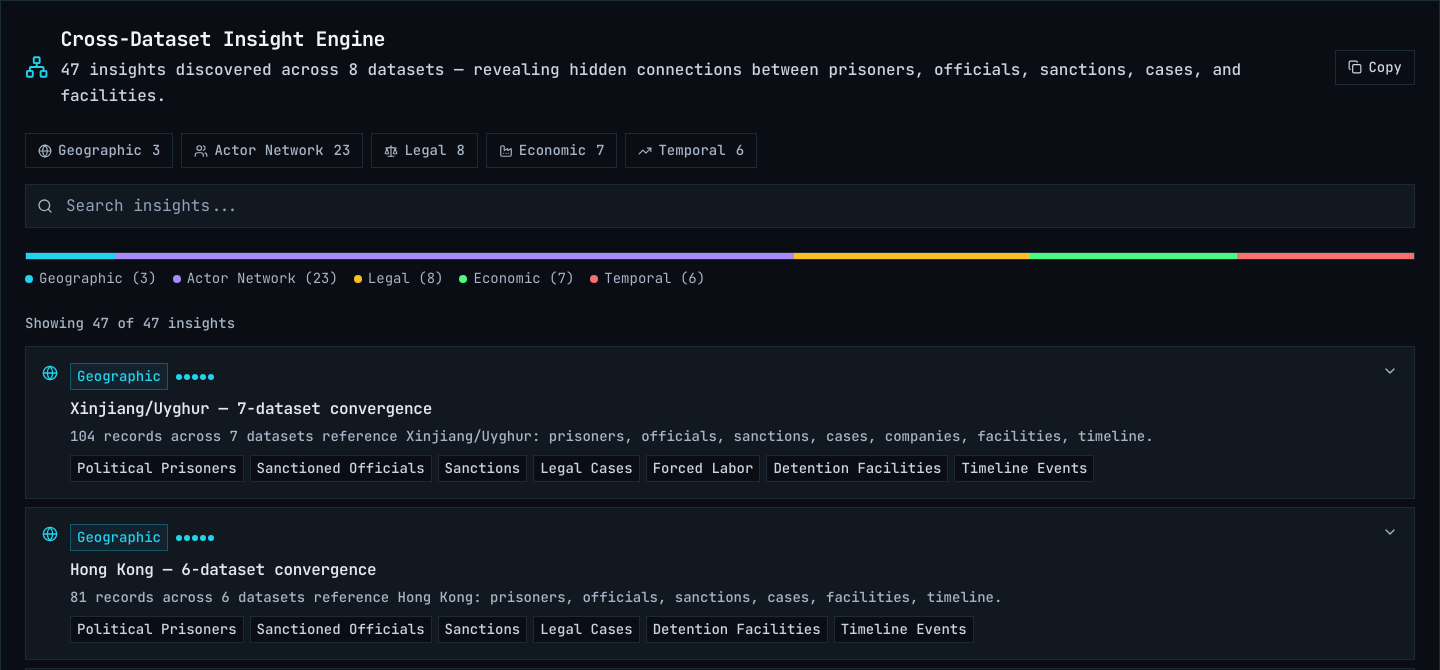
Scenario: CrossDatasetInsightEngine › clicking an expanded insight card collapses it
The width and height of the screenshot is (1440, 670).
Step 1. Click the button with aria-label "Xinjiang/Uyghur — 7-dataset convergence — 104 records across" → [720, 422], box [26,347,1414,498]
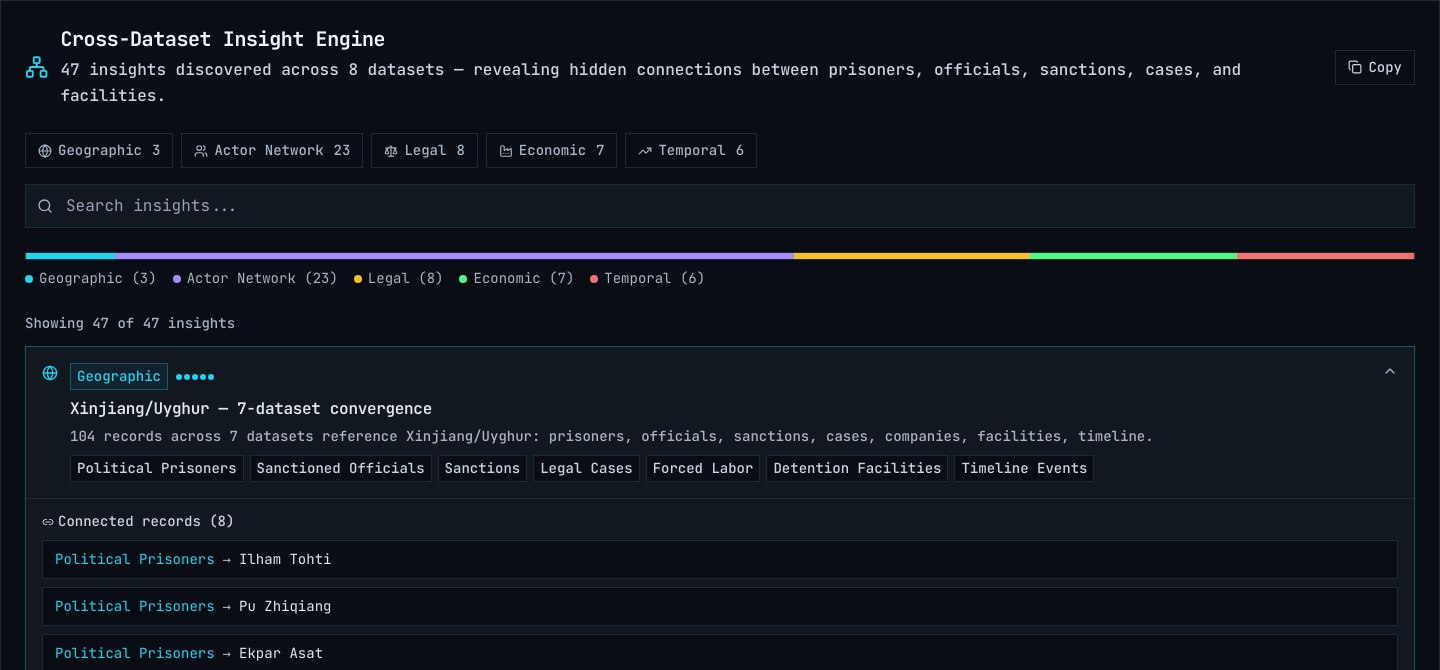
Now the button with aria-label "Xinjiang/Uyghur — 7-dataset convergence — 104 records across" is expanded
Step 2. Click the button with aria-label "Xinjiang/Uyghur — 7-dataset convergence — 104 records across" → [720, 422], box [26,347,1414,498]
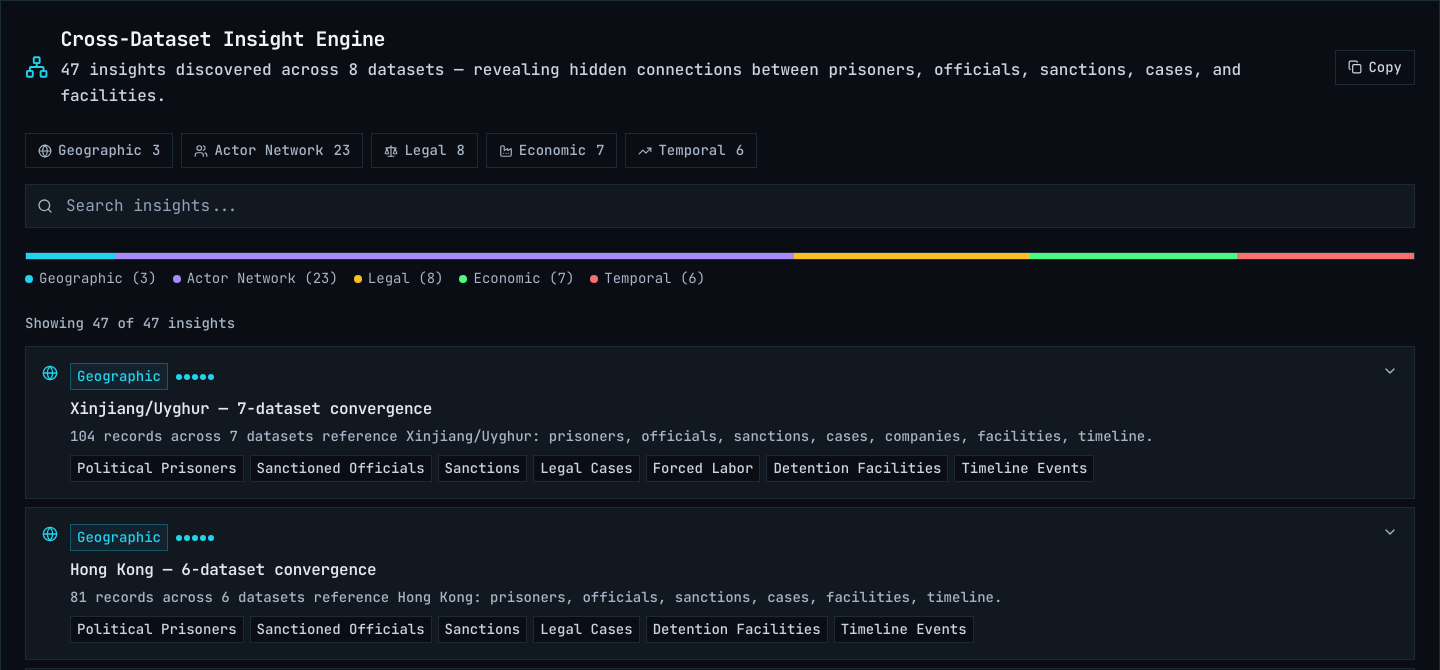
Now the button with aria-label "Xinjiang/Uyghur — 7-dataset convergence — 104 records across" is collapsed, box [26,347,1414,498]
